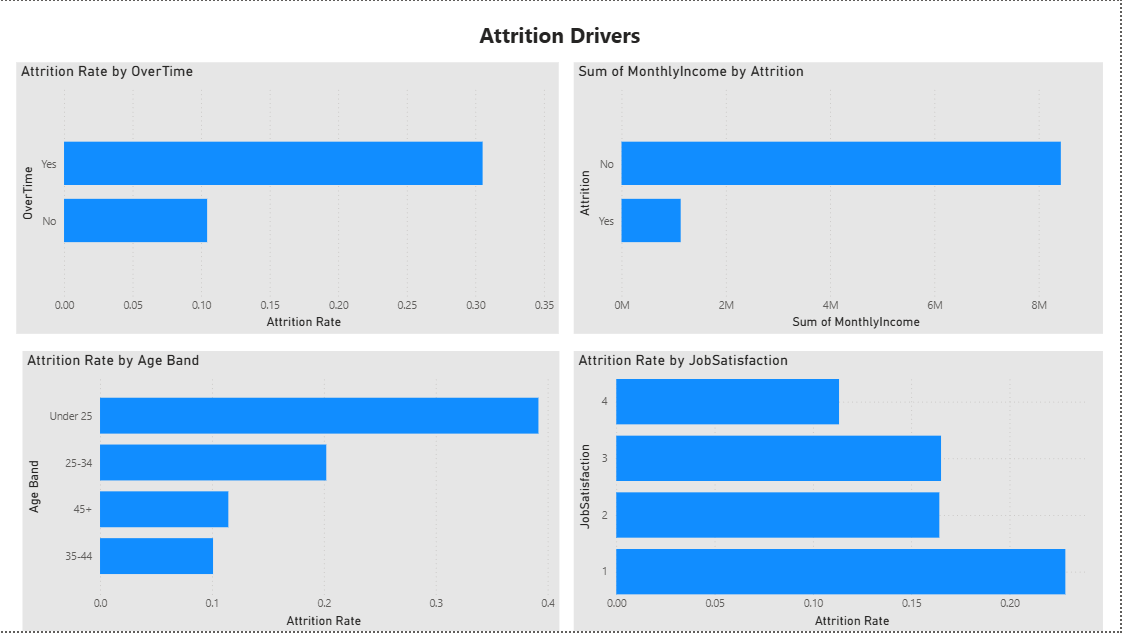

The page's visual inventory and layout, read from the dashboard file:
{"tool":"powerbi","page":{"name":"Page 2","canvas":[1280,720],"ordinal":1},"visuals":[{"type":"clusteredBarChart","fields":{"Category":["hr_scored.OverTime"],"Y":["hr_scored.Attrition Rate"]},"box":[19.2,70,620.2,310.1],"z":0},{"type":"clusteredBarChart","fields":{"Category":["hr_scored.Attrition"],"Y":["Sum(hr_scored.MonthlyIncome)"]},"box":[655.9,70,605.1,310.1],"z":1000},{"type":"clusteredBarChart","fields":{"Category":["hr_scored.Age Band"],"Y":["hr_scored.Attrition Rate"]},"box":[26.1,399.3,613.4,321.1],"z":2000},{"type":"clusteredBarChart","fields":{"Category":["hr_scored.JobSatisfaction"],"Y":["hr_scored.Attrition Rate"]},"box":[655.9,399.3,605.1,321.1],"z":3000},{"type":"textbox","box":[19.2,0,1241.9,70],"z":4000}]}

Visuals, with their boxes in screenshot pixels (x1, y1, x2, y2), scaled from the page's 1280x720 canvas onto the 1129x643 screenshot:
clusteredBarChart - hr_scored.OverTime x hr_scored.Attrition Rate: bbox=(17, 63, 564, 339)
clusteredBarChart - hr_scored.Attrition x Sum(hr_scored.MonthlyIncome): bbox=(579, 63, 1112, 339)
clusteredBarChart - hr_scored.Age Band x hr_scored.Attrition Rate: bbox=(23, 357, 564, 642)
clusteredBarChart - hr_scored.JobSatisfaction x hr_scored.Attrition Rate: bbox=(579, 357, 1112, 642)
textbox: bbox=(17, 0, 1112, 63)
